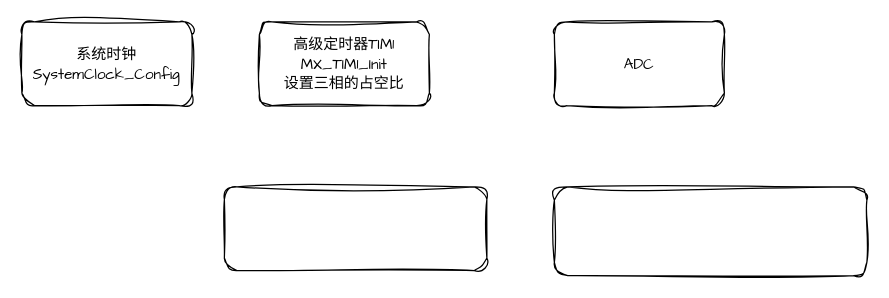
Some shapes in this 889 by 298 pixel diagram are drawn without their labels. Here are the shapes that lost their labels. From the top down, the centre of each, then its label:
At (x=355, y=228): "通用定时器TIM3 MX_TIM1_Init HAL_TIM_PeriodElapsedCallback 计算电机速度".
At (x=710, y=231): "ADC 回调做电机控制 HAL_ADCEx_InjectedConvCpltCallback".
